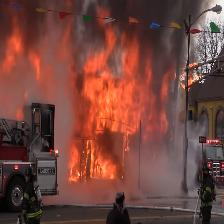fire: (85, 73, 133, 180)
smoke: (126, 0, 192, 57)
